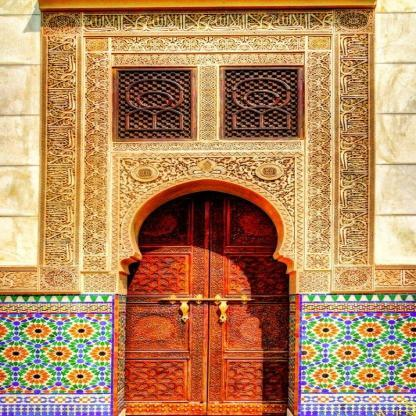Building Outline: (0, 0, 414, 415)
Door: (118, 179, 297, 416)
Door Hole: (117, 179, 297, 416)
Facade: (0, 0, 414, 415)
Ground Floor: (0, 0, 414, 415)
Window: (220, 66, 305, 141), (112, 66, 197, 141)
